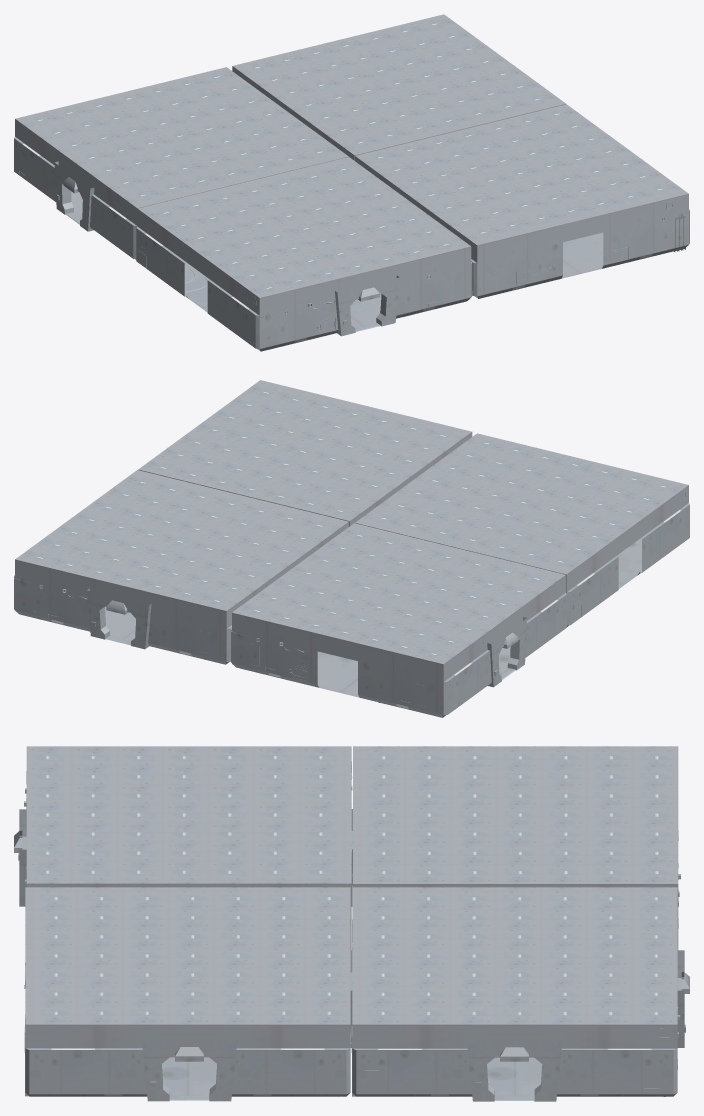
Rendered from Combined_Mesh_root_scene__9_f65a131e__ZombiesII_laboratory_02_d_7436f9f5_c1f257_part002.obj.
3 renders of one model, top to bottom at view 1: azimuth 30°, elevation 25°; view 2: azimuth 150°, elevation 25°; view 3: azimuth 270°, elevation 25°, orthographic. The views are drawn at different scales.
Size of the model in its own units: 83.99 by 10.21 by 83.14.
233 materials, 233 textured.
